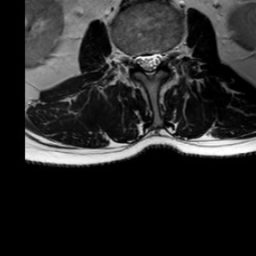CCS_normal: (145, 44, 154, 86)
LFS_normal: (163, 41, 173, 68)
LLS_normal: (154, 42, 163, 73)
RFS_normal: (126, 43, 135, 74)
RLS_normal: (135, 45, 145, 76)
